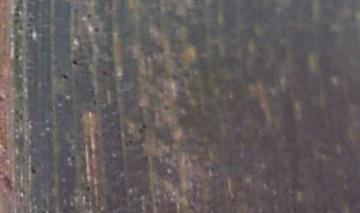tarspot: (72, 58, 80, 66), (30, 167, 37, 176), (94, 25, 101, 33), (102, 69, 109, 77), (138, 127, 145, 134), (62, 73, 68, 81), (87, 13, 95, 18), (85, 184, 90, 192), (127, 140, 137, 143), (142, 124, 147, 130)
